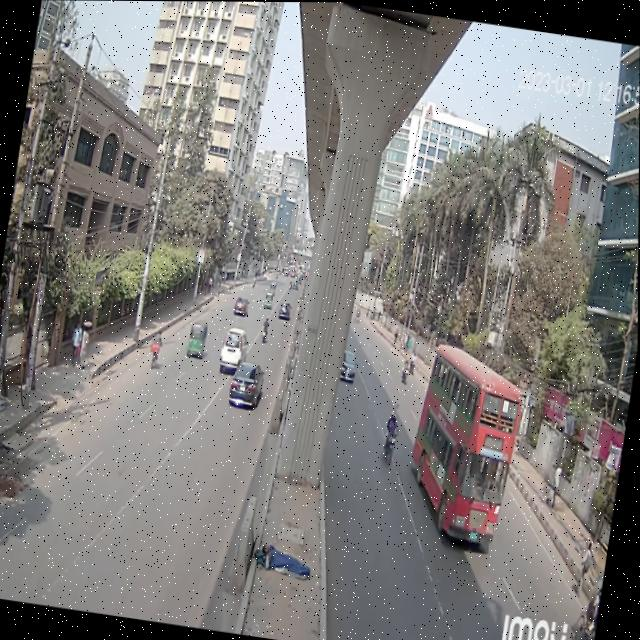cng: (185, 313, 211, 361)
